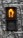stop: (5, 6, 18, 19)
